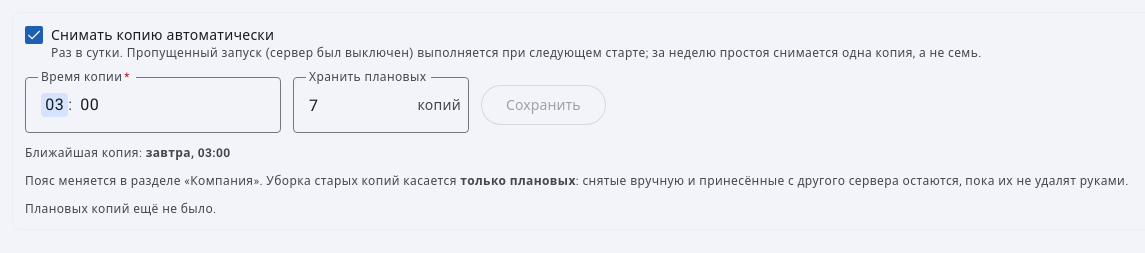
ScheduleForm › выключили расписание — набранное с ошибкой уходит из поля
Replace the text in the field with placeholder "ЧЧ" with "25" at (55, 105), box [41,93,68,117]
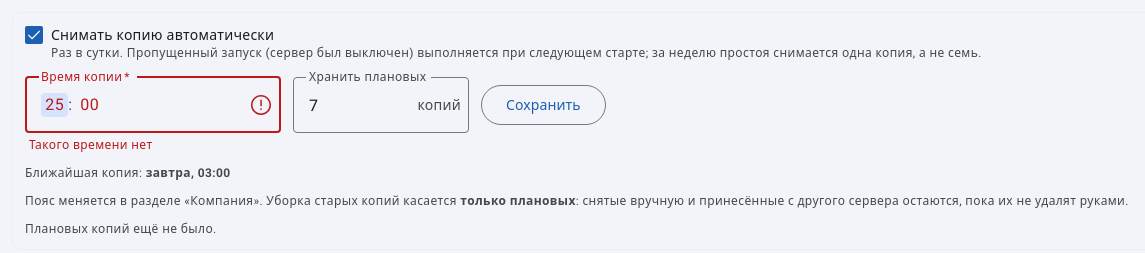
Click the checkbox.
click(34, 35)  # box [14,15,54,55]
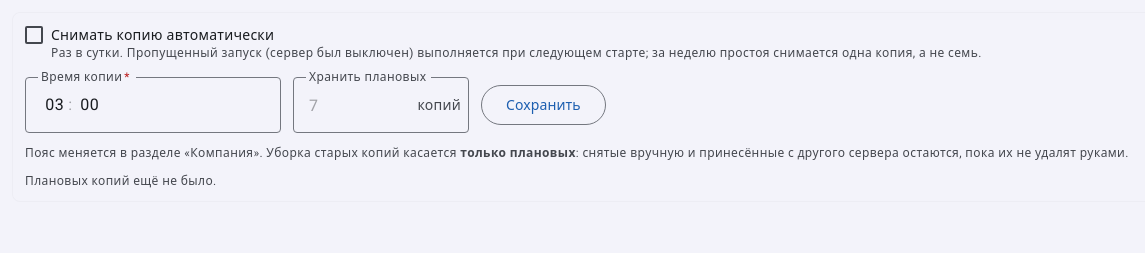
Check: the field with placeholder "ЧЧ" holds "03", box [41,93,68,117]
